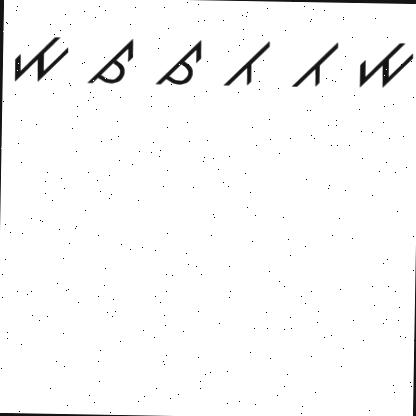ba: (216, 32, 274, 96), (290, 36, 344, 92)
ca: (82, 35, 138, 98), (154, 29, 204, 88)
ma: (349, 34, 416, 94), (7, 22, 70, 84)
